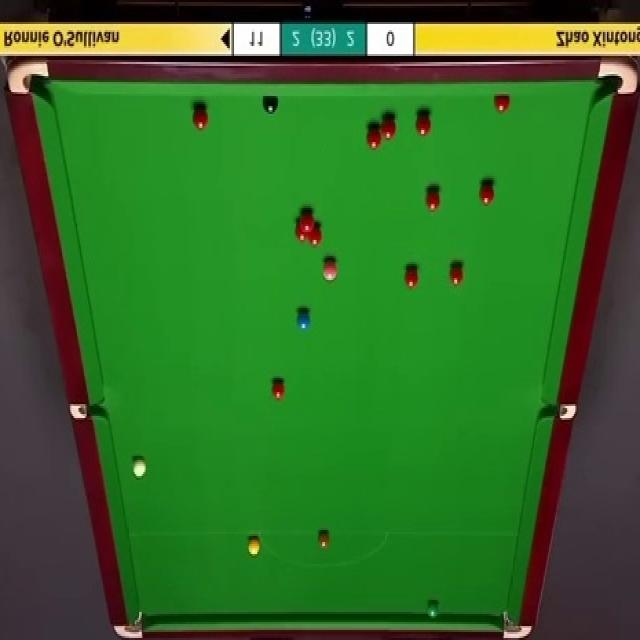black-ball: (262, 94, 280, 115)
blue-ball: (296, 311, 312, 332)
brown-ball: (318, 532, 330, 552)
green-ball: (426, 600, 439, 618)
pink-ball: (322, 256, 339, 281)
red-ball: (381, 114, 397, 143), (191, 105, 208, 132), (450, 260, 466, 288), (415, 110, 432, 136), (404, 265, 420, 291), (366, 124, 382, 150), (479, 182, 496, 206), (426, 188, 441, 214), (294, 218, 308, 242), (309, 222, 322, 246), (493, 97, 511, 114), (300, 210, 316, 229), (272, 380, 285, 401)
white-ball: (132, 456, 148, 477)
yellow-ball: (247, 538, 259, 554)
